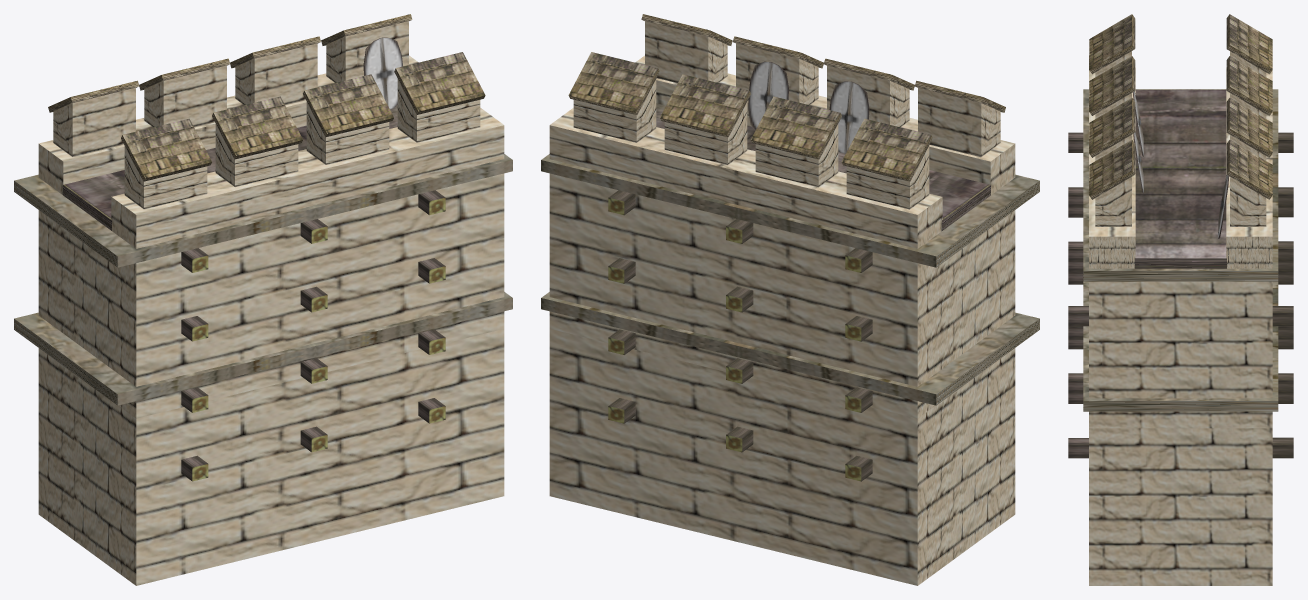
The model's file is wall_medium.dae.
The picture shows the model from 3 angles, left to right: view 1: azimuth 30°, elevation 25°; view 2: azimuth 150°, elevation 25°; view 3: azimuth 270°, elevation 25°; orthographic projection. The views are drawn at different scales.
Parts seen in each view (by area): view 1: wall_medium; view 2: wall_medium; view 3: wall_medium.
Part boxes in pixels (box(x1,y1,x2,y2)): wall_medium: box(14, 14, 512, 585); wall_medium: box(541, 14, 1039, 585); wall_medium: box(1068, 14, 1293, 585).
Bounding box in the file's own units: 17.56 × 9.22 × 18.34.
